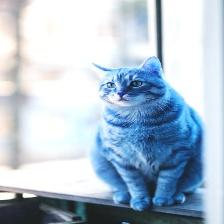kedo: (90, 58, 201, 210)
